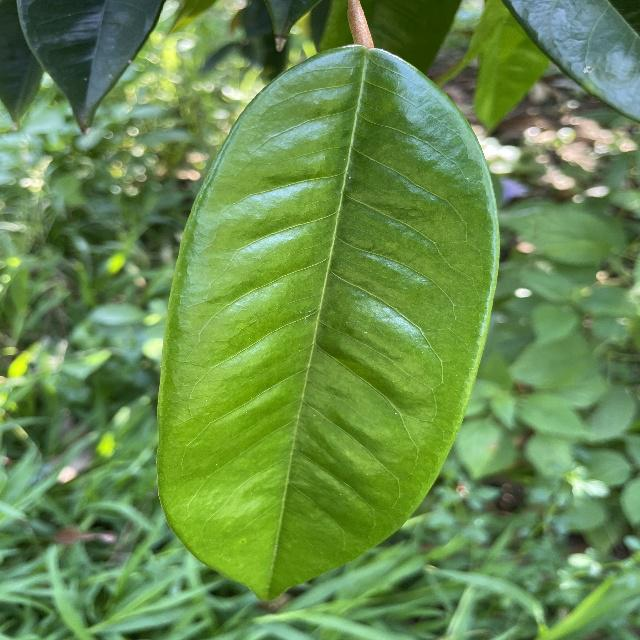No Disease: (147, 33, 506, 607)
